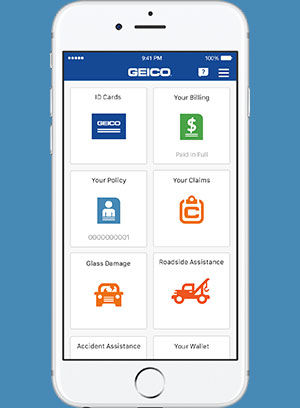geico: (124, 64, 173, 78)
